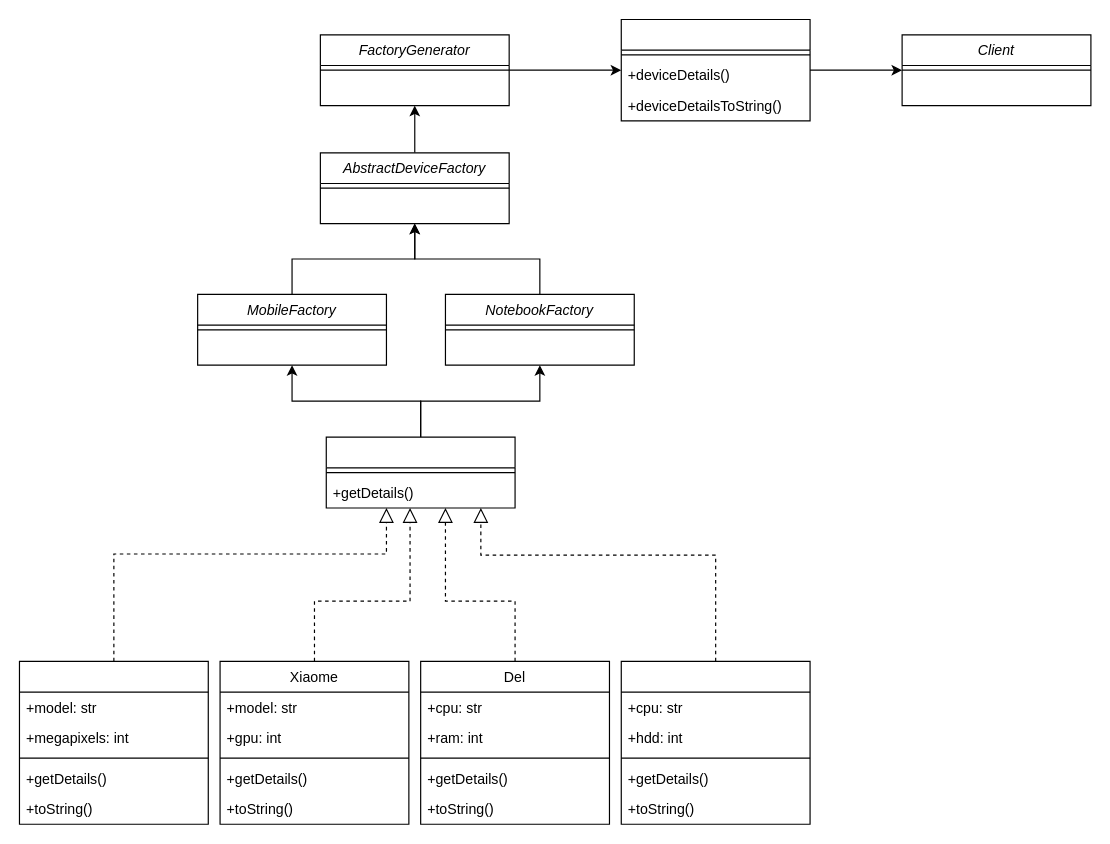
The diagram is 1110 pixels wide and 844 high, and some of its shapes have lost their labels. Each missing label, with the box of its shape:
Device: (325, 436, 515, 508)
FacadeInterface: (620, 18, 810, 121)
Positive: (620, 660, 810, 824)
Sansung: (18, 660, 208, 824)
